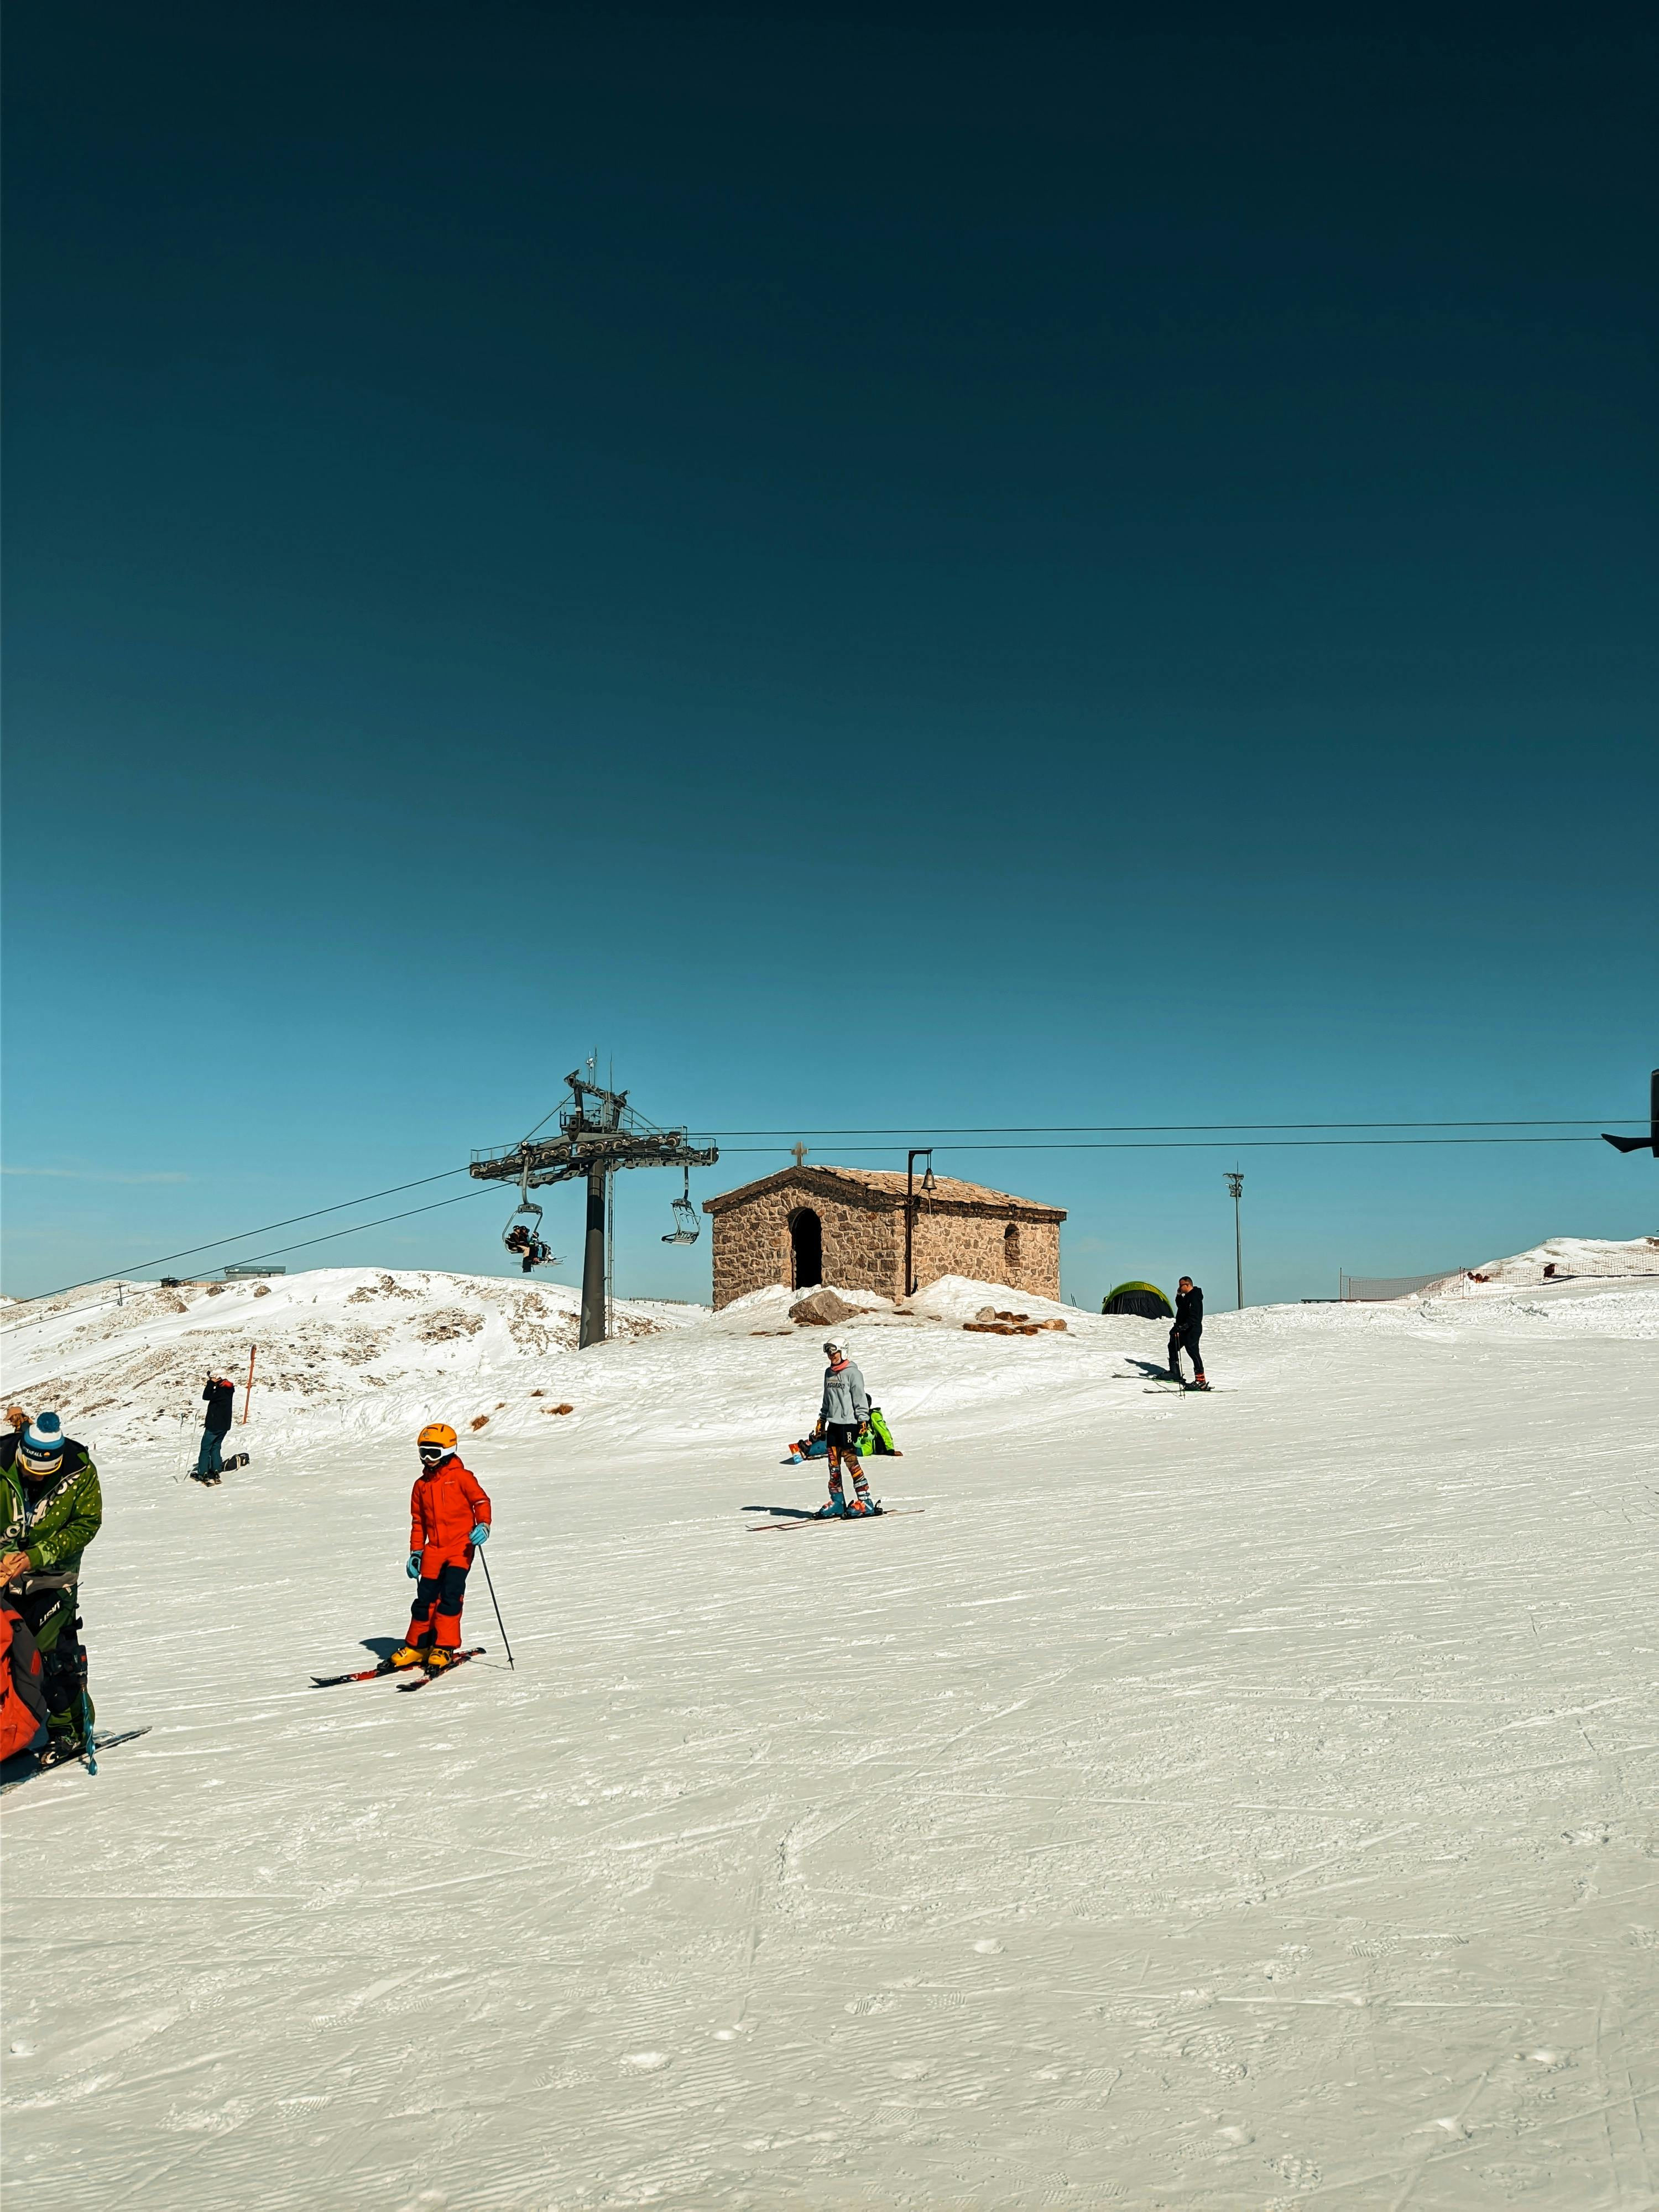skier: (305, 1420, 521, 1689), (739, 1336, 934, 1534), (1110, 1271, 1244, 1395)
